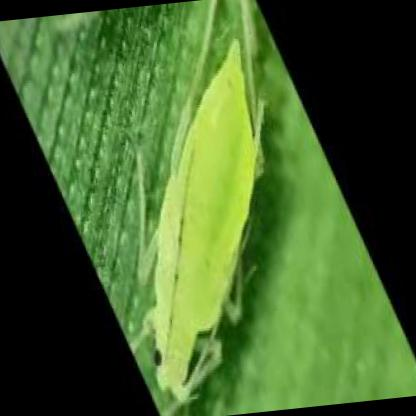schizaphis graminum: (136, 0, 254, 392)
